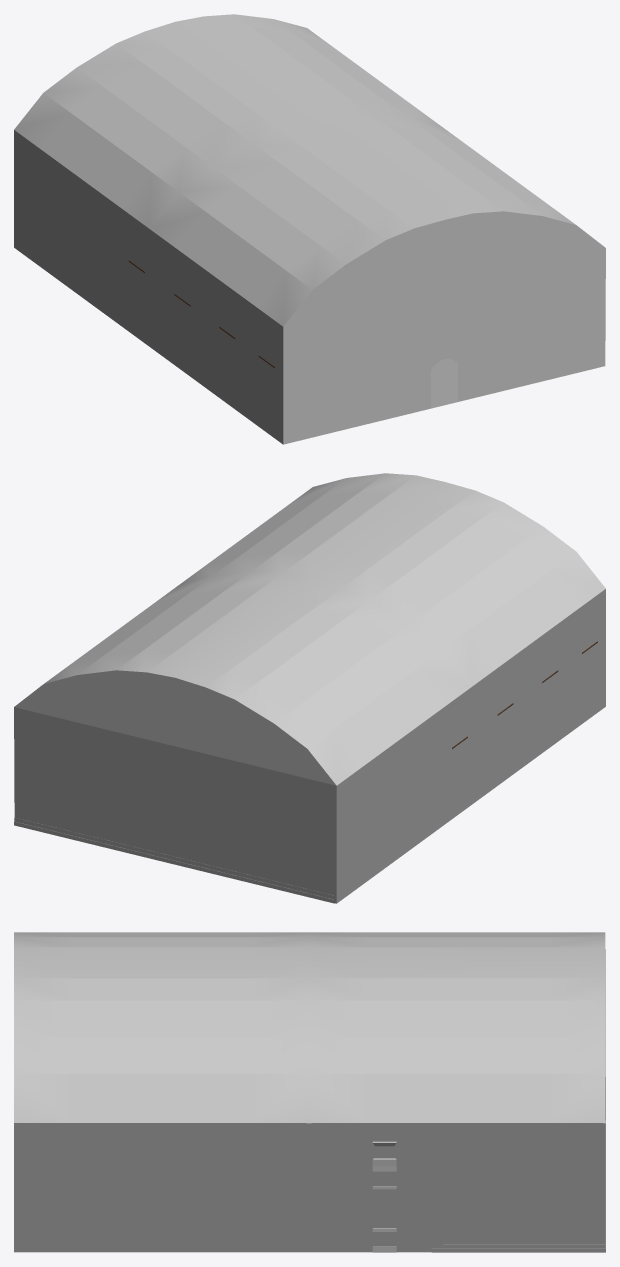
File: Throne.fbx
3 views of the same model, one above another, from view 1: azimuth 30°, elevation 25°; view 2: azimuth 150°, elevation 25°; view 3: azimuth 270°, elevation 25° (orthographic). The views are drawn at different scales.
Parts seen in each view (by area): view 1: ThroneRoom; view 2: ThroneRoom, stair3, stair2; view 3: ThroneRoom, stair3, Arch26, stair2.
Boxes of the visible parts, box(x1,y1,x2,y2) form: ThroneRoom: box(14, 14, 605, 444); ThroneRoom: box(14, 473, 605, 903); stair3: box(14, 821, 334, 903); stair2: box(14, 817, 334, 899); ThroneRoom: box(14, 932, 605, 1252); stair3: box(431, 1077, 605, 1252); Arch26: box(372, 1141, 396, 1252); stair2: box(443, 1244, 605, 1248).
Size of the model in its own units: 3579 by 1963 by 5134.
